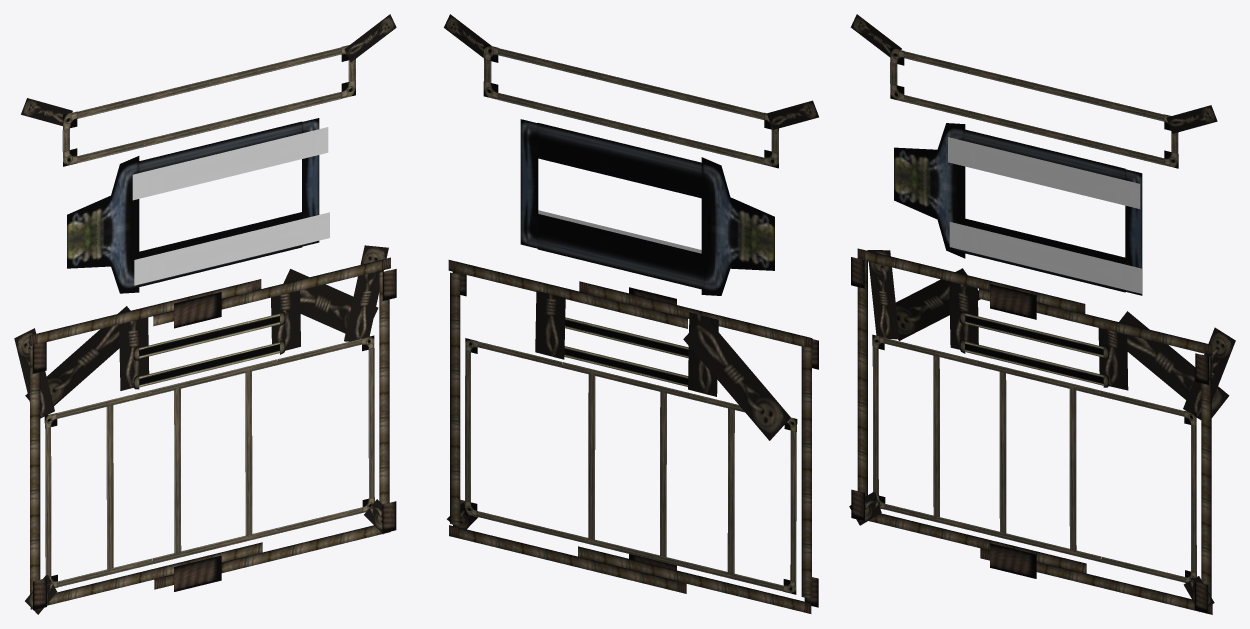
The model's file is gui_ship_window.fbx.
3 views of the same model, side by side, from view 1: azimuth 30°, elevation 25°; view 2: azimuth 150°, elevation 25°; view 3: azimuth 330°, elevation 25° (orthographic). The views are drawn at different scales.
Parts seen in each view (by area): view 1: frame, rigging, inner_frame, pPlane190, pPlane191, progress_bars, pPlane183, pPlane184, pPlane188, pPlane187, pPlane192, pPlane189; view 2: frame, inner_frame, rigging, pPlane187, pPlane188, pPlane184, pPlane183, progress_bars, pPlane192, pPlane189, pPlane191; view 3: frame, rigging, inner_frame, pPlane190, pPlane191, progress_bars, pPlane183, pPlane184, pPlane188, pPlane187, pPlane189, pPlane192.
Boxes of the visible parts, x1,y1,x2,y2 form: frame: (29, 45, 396, 610); rigging: (14, 14, 396, 614); inner_frame: (44, 335, 374, 587); pPlane190: (132, 127, 328, 200); pPlane191: (134, 212, 329, 285); progress_bars: (133, 312, 285, 389); pPlane183: (67, 224, 139, 293); pPlane184: (67, 156, 139, 241); pPlane188: (137, 121, 302, 172); pPlane187: (137, 212, 302, 287); pPlane192: (302, 180, 319, 246); pPlane189: (302, 118, 319, 184); frame: (448, 44, 818, 613); inner_frame: (464, 338, 797, 594); rigging: (444, 14, 818, 529); pPlane187: (537, 214, 703, 289); pPlane188: (537, 123, 703, 198); pPlane184: (701, 157, 774, 243); pPlane183: (701, 226, 774, 295); progress_bars: (564, 317, 688, 386); pPlane192: (520, 182, 538, 248); pPlane189: (520, 119, 538, 185); pPlane191: (538, 210, 701, 253); frame: (851, 47, 1212, 614); rigging: (849, 14, 1235, 611); inner_frame: (872, 334, 1196, 582); pPlane190: (948, 137, 1140, 208); pPlane191: (949, 222, 1141, 293); progress_bars: (959, 311, 1108, 387); pPlane183: (894, 174, 965, 258); pPlane184: (894, 123, 965, 191); pPlane188: (963, 129, 1125, 179); pPlane187: (963, 218, 1125, 292); pPlane189: (1125, 169, 1142, 234); pPlane192: (1125, 230, 1142, 295).
Bounding box in the file's own units: 334 × 440 × 30.74.
Materials: 1 (1 with a texture image).
